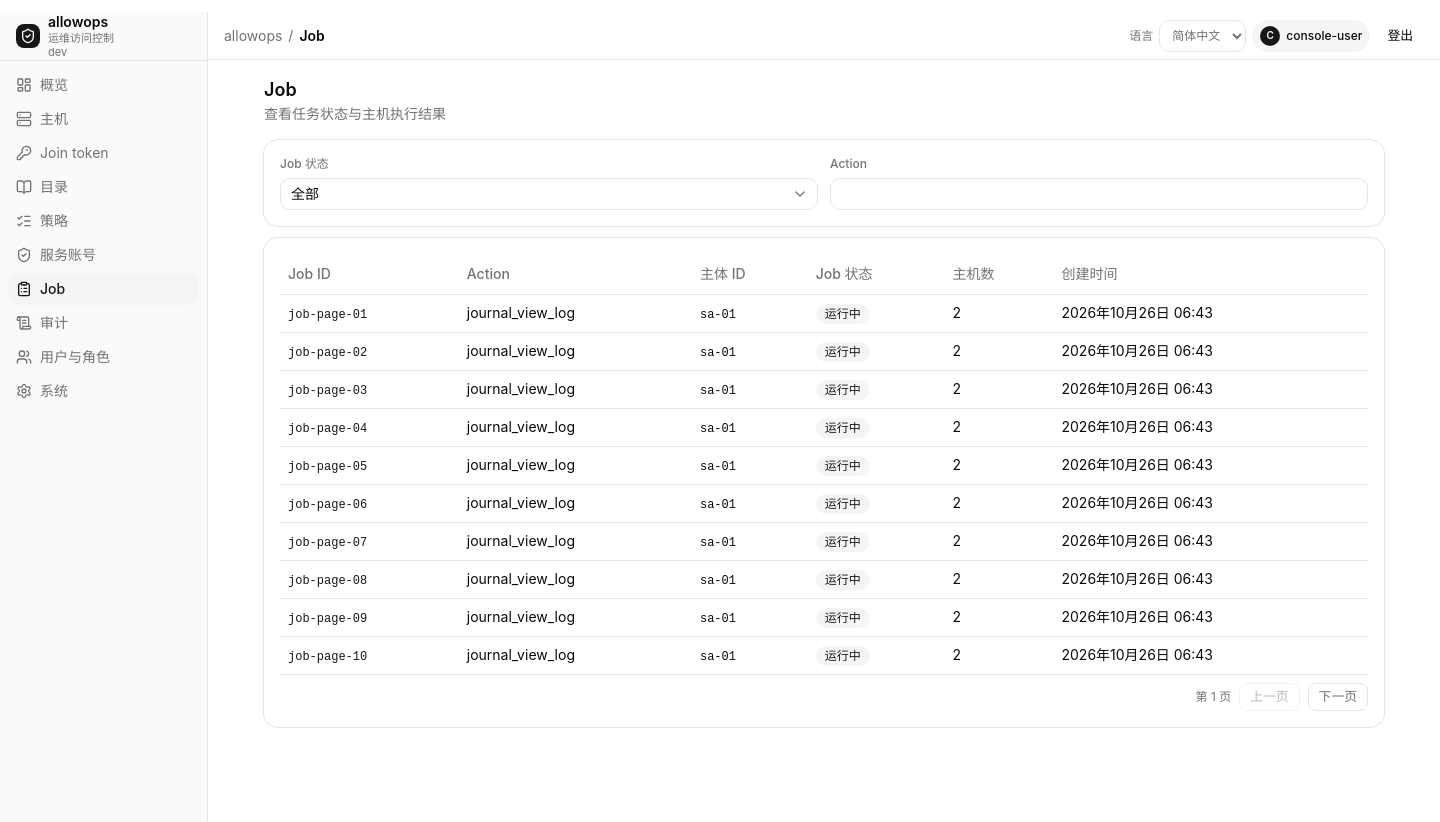
jobs list server pagination › moves between pages with the next page token
Click the button "下一页": (1338, 696) [1308, 682, 1368, 710]
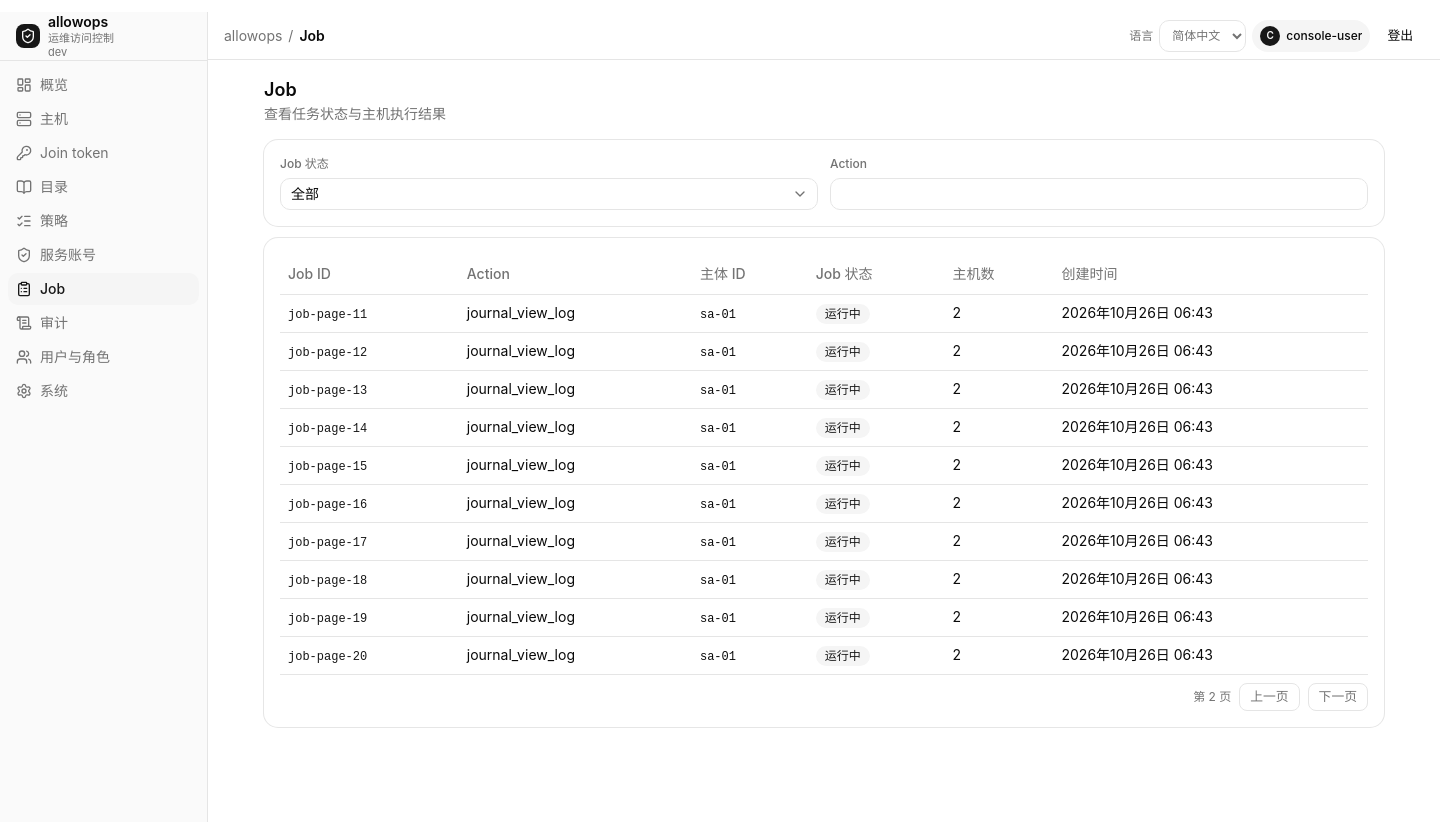
Expected: the text "第 2 页" is shown, [1193, 688, 1231, 704]
Click the button "下一页": (1338, 696) [1308, 682, 1368, 710]
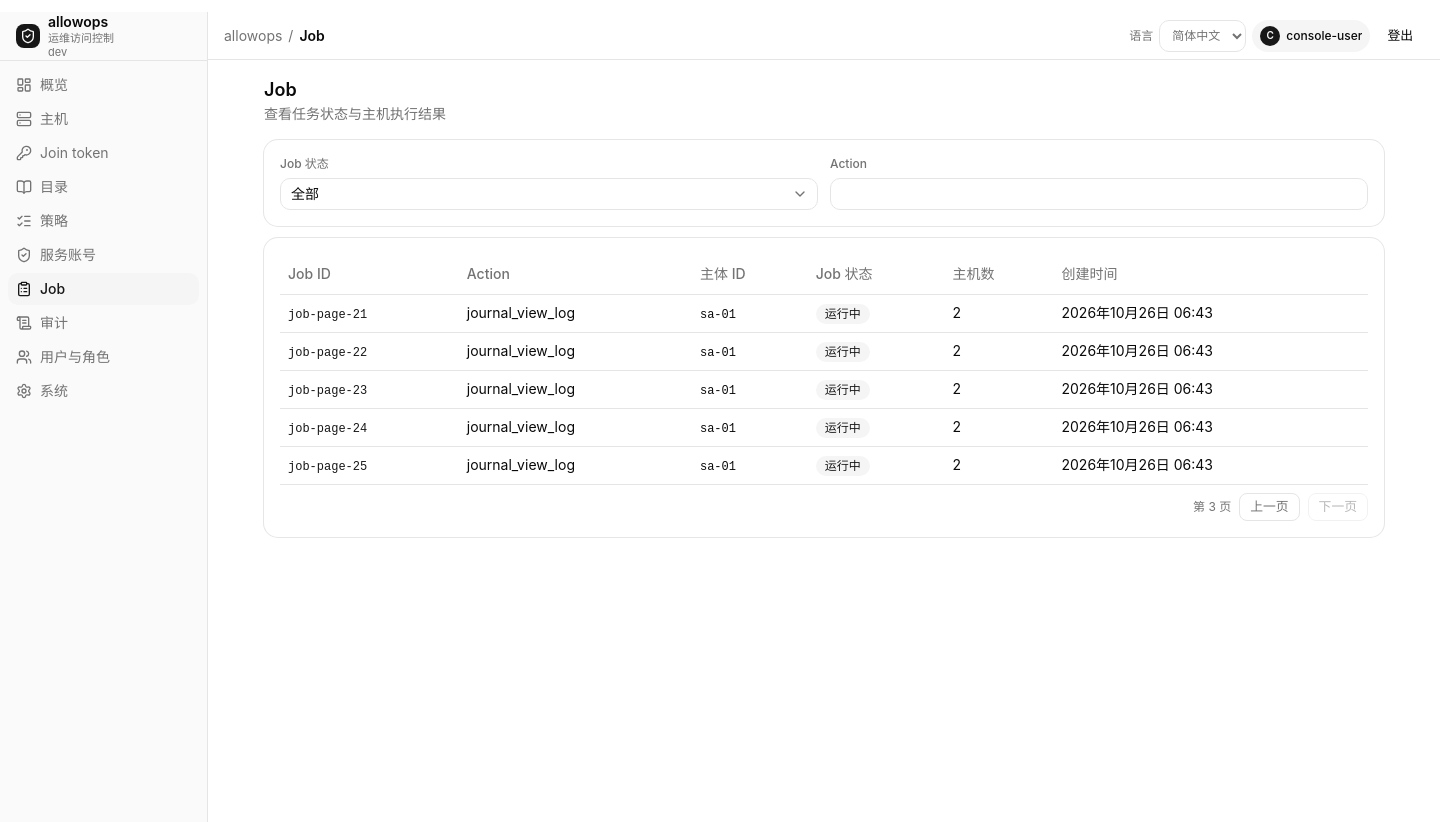
Expected: the text "第 3 页" is shown, [1193, 498, 1231, 514]
Expected: the button "下一页" is disabled, [1308, 492, 1368, 520]
Click the button "上一页": (1269, 506) [1239, 492, 1300, 520]
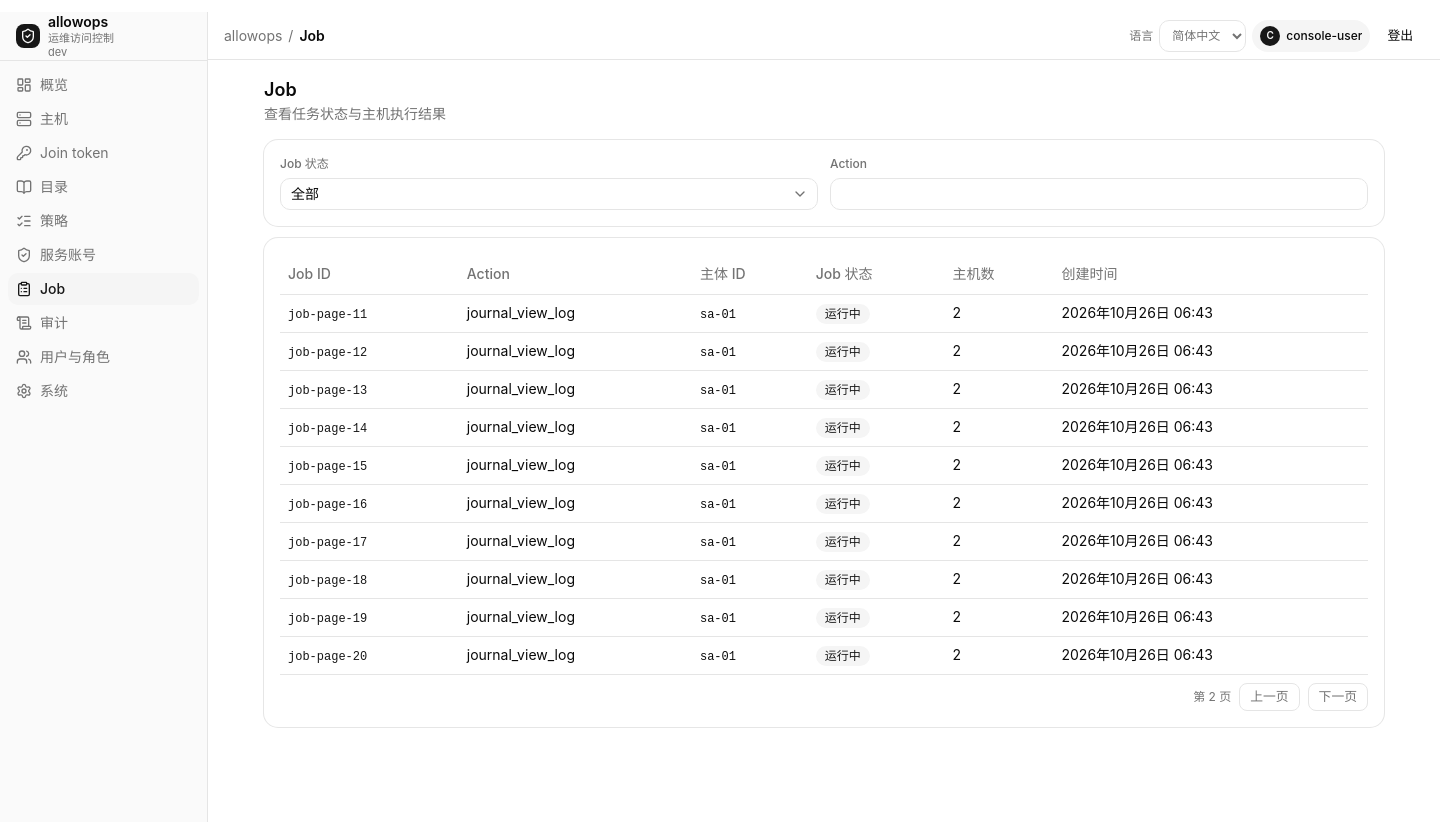
Expected: the text "第 2 页" is shown, [1193, 688, 1231, 704]
